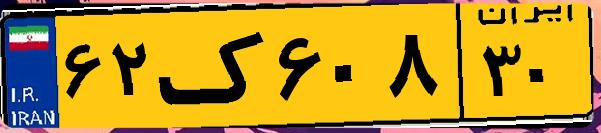0: (330, 28, 385, 110), (525, 38, 570, 115)
2: (110, 28, 158, 98)
3: (475, 38, 525, 113)
6: (270, 28, 330, 110), (57, 26, 110, 100)
8: (385, 28, 445, 110)
ک: (158, 12, 270, 120)
